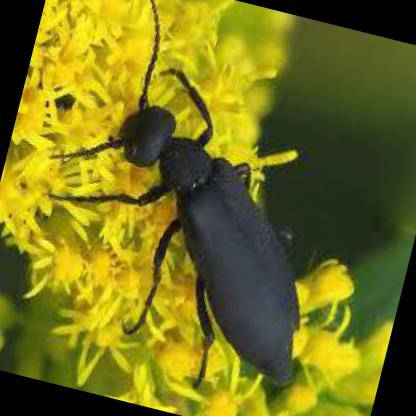blister beetle: (57, 0, 305, 386)
